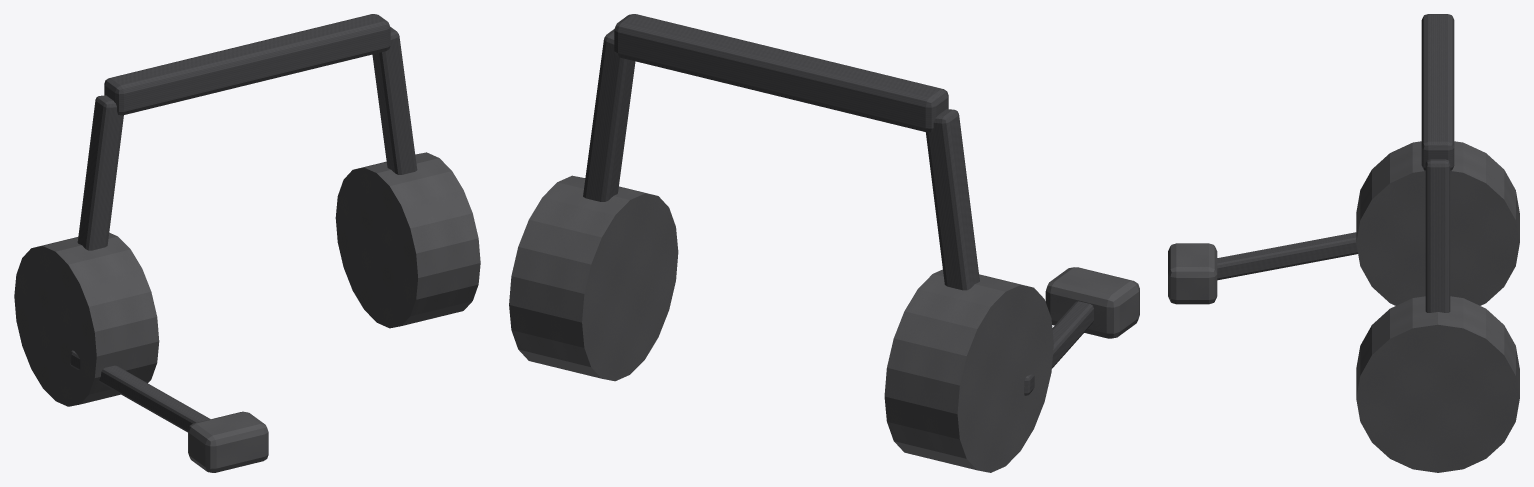
The model's file is operator_headset.glb.
The picture shows the model from 3 angles, left to right: view 1: azimuth 30°, elevation 25°; view 2: azimuth 150°, elevation 25°; view 3: azimuth 270°, elevation 25°; orthographic projection. The views are drawn at different scales.
Visible parts, largest first — view 1: ear_cup.001, ear_cup, headband_top, headband_side, microphone, headband_side.001, microphone_boom; view 2: ear_cup.001, ear_cup, headband_top, headband_side, headband_side.001, microphone, microphone_boom; view 3: ear_cup.001, ear_cup, headband_top, headband_side.001, microphone_boom, microphone.
Boxes of the visible parts, left/top/right/bottom form: ear_cup.001: left=335, top=152, right=480, bottom=328; ear_cup: left=14, top=232, right=159, bottom=406; headband_top: left=104, top=14, right=390, bottom=115; headband_side: left=77, top=95, right=123, bottom=250; microphone: left=188, top=411, right=268, bottom=472; headband_side.001: left=372, top=27, right=417, bottom=174; microphone_boom: left=70, top=350, right=210, bottom=432; ear_cup.001: left=509, top=175, right=678, bottom=381; ear_cup: left=884, top=269, right=1053, bottom=472; headband_top: left=614, top=14, right=948, bottom=132; headband_side: left=926, top=109, right=979, bottom=290; headband_side.001: left=583, top=29, right=635, bottom=201; microphone: left=1045, top=267, right=1139, bottom=338; microphone_boom: left=1024, top=301, right=1093, bottom=395; ear_cup.001: left=1356, top=296, right=1519, bottom=472; ear_cup: left=1356, top=141, right=1519, bottom=305; headband_top: left=1421, top=14, right=1454, bottom=170; headband_side.001: left=1425, top=159, right=1450, bottom=312; microphone_boom: left=1217, top=232, right=1357, bottom=280; microphone: left=1168, top=243, right=1217, bottom=304.
Bounding box in the file's own units: 0.2165 × 0.163 × 0.172.
Materials: 2 (2 with a texture image).
